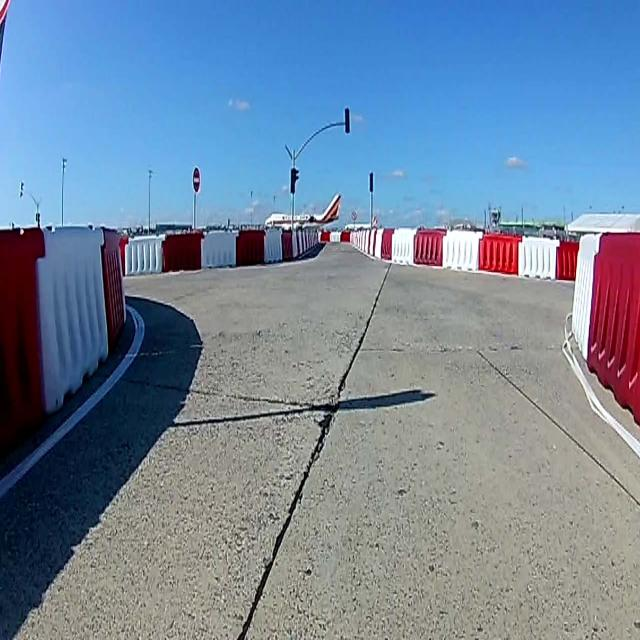girisyok: (193, 166, 199, 194)
